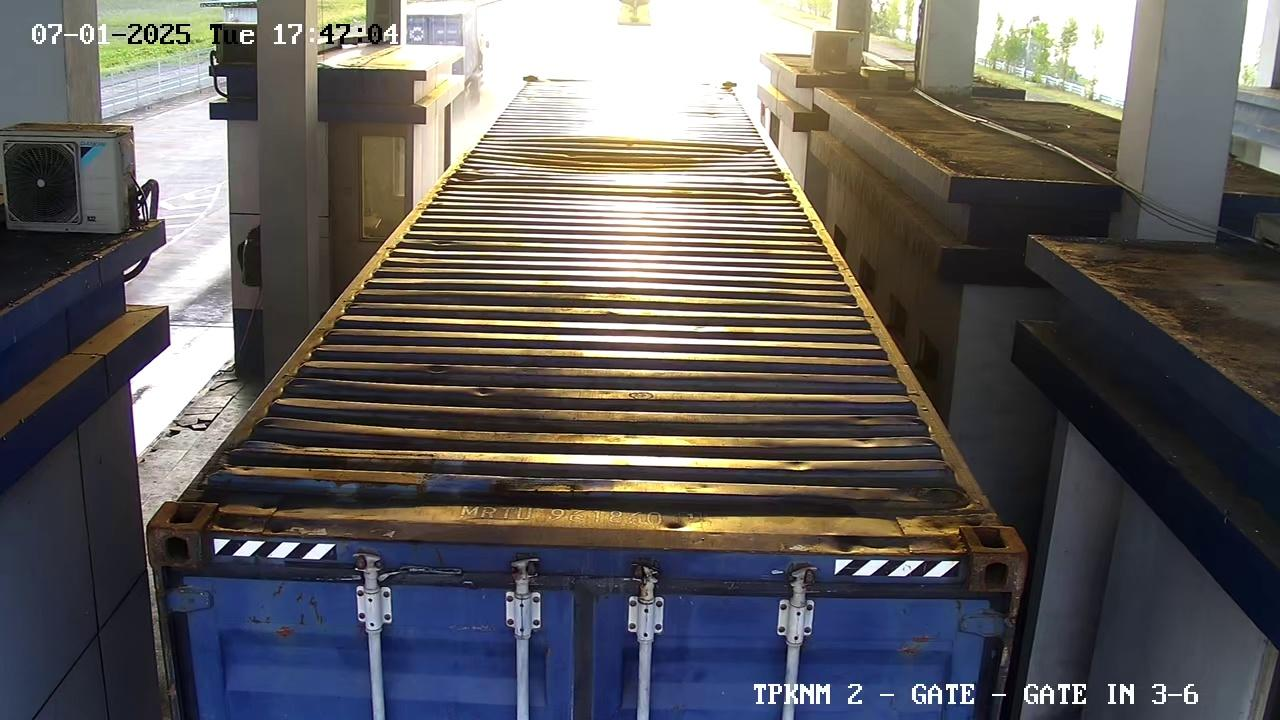Container_ID: (438, 485, 764, 550)
